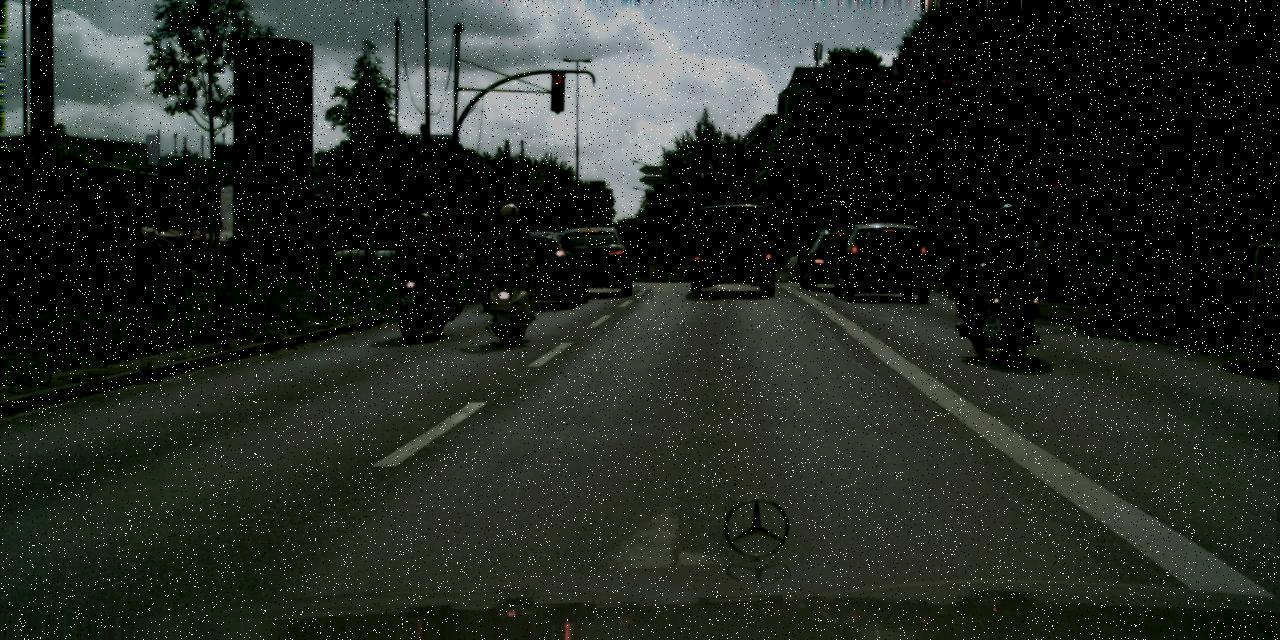ped: (980, 203, 1028, 322), (486, 203, 530, 311), (404, 213, 445, 315), (1170, 218, 1194, 276), (1066, 230, 1087, 280), (1136, 219, 1156, 270)
